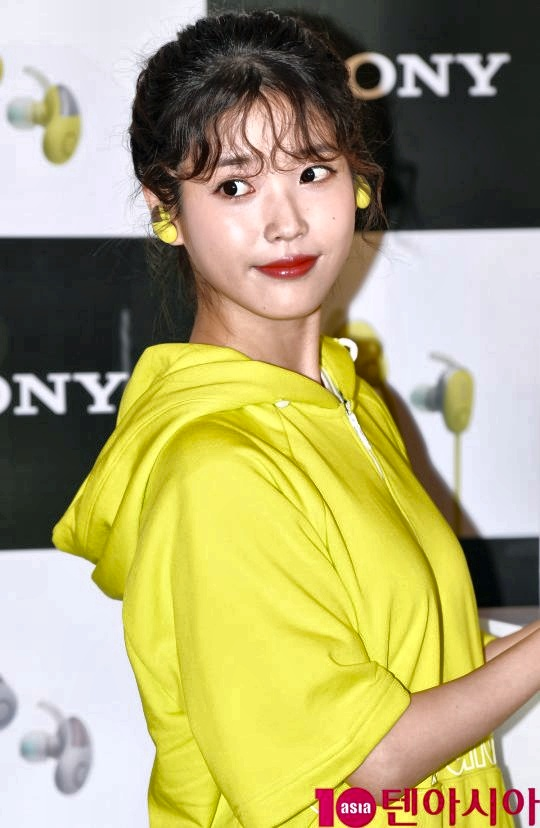earphone: (143, 185, 188, 246)
